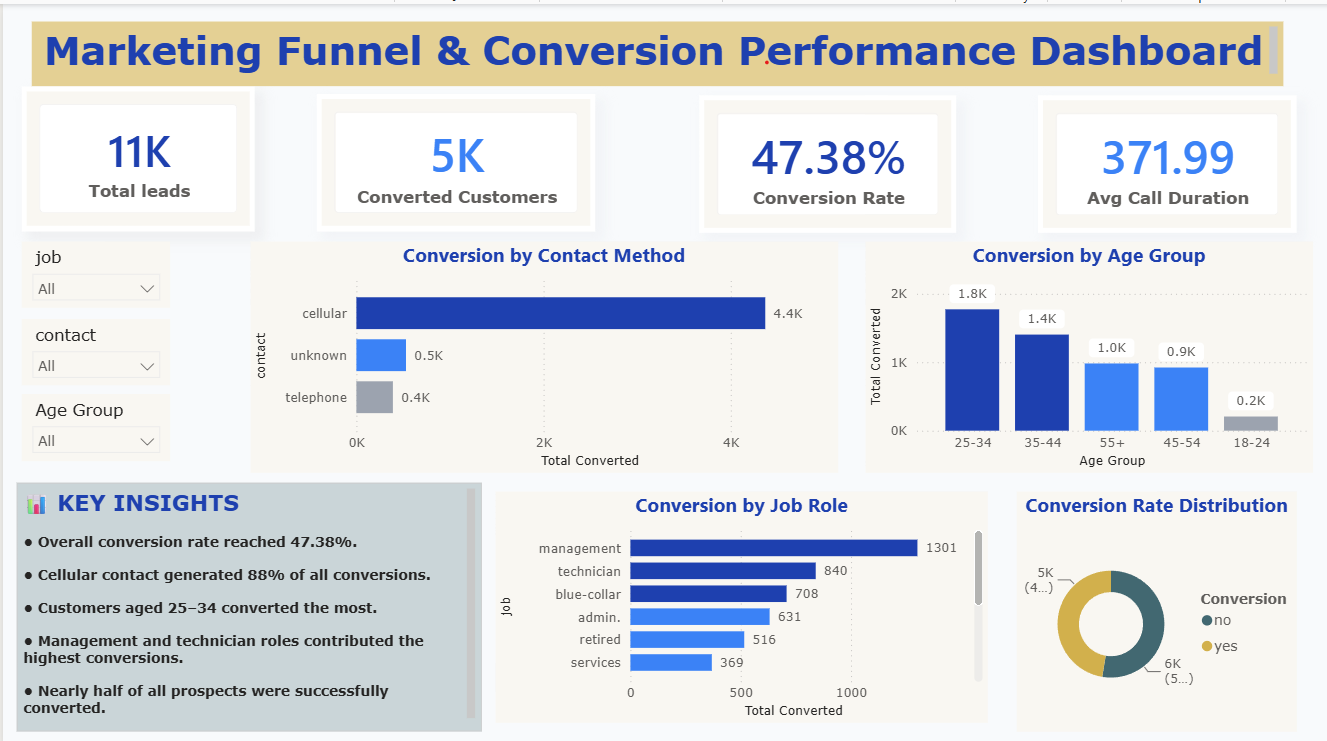

The dashboard page shown, as its layout file describes it:
{"tool":"powerbi","page":{"name":"Page 1","canvas":[1280,720],"ordinal":0},"visuals":[{"type":"cardVisual","title":"Total Leads","fields":{"Data":["bank.Total Prospects"]},"box":[17.8,79.6,225,140],"z":0},{"type":"textbox","box":[27.7,16.9,1207.6,62.7],"z":1000},{"type":"cardVisual","title":"Converted Customers","fields":{"Data":["bank.Total Conversions"]},"box":[302.8,86.9,269,132.7],"z":2000},{"type":"cardVisual","title":"Conversion Rate","fields":{"Data":["bank.Conversion Rate"]},"box":[672.4,87.8,248.4,133.1],"z":3000},{"type":"cardVisual","title":"Avg Call Duration","fields":{"Data":["bank.Avg Call Duration"]},"box":[999,87.8,249.7,133.1],"z":4000},{"type":"clusteredBarChart","title":"Conversion by Contact Method","fields":{"Category":["bank.contact"],"Y":["bank.Total Converted"]},"box":[238.9,229.2,567,223.2],"z":5000},{"type":"clusteredBarChart","title":"Conversion by Job Role","fields":{"Category":["bank.job"],"Y":["bank.Total Converted"]},"box":[475.3,470.5,475.3,223.2],"z":6000},{"type":"clusteredColumnChart","title":"Conversion by Age Group","fields":{"Y":["bank.Total Converted"],"Category":["bank.Age Group"]},"box":[832.4,229.2,431.9,223.2],"z":7000},{"type":"donutChart","title":"Conversion Rate Distribution","fields":{"Category":["bank.Conversion"],"Y":["bank.Prospects"]},"box":[978.4,470.5,270.2,231.6],"z":8000},{"type":"textbox","box":[13.3,462.1,448.8,240.1],"z":12000},{"type":"slicer","fields":{"Values":["bank.job"]},"box":[18.1,229.2,143.6,63.9],"z":14500},{"type":"slicer","fields":{"Values":["bank.contact"]},"box":[18.1,304,143.6,63.9],"z":15000},{"type":"slicer","fields":{"Values":["bank.Age Group"]},"box":[18.1,376.4,143.6,65.1],"z":15500}]}

Visuals, with their boxes in screenshot pixels (x1, y1, x2, y2), scaled from the page's 1280x720 canvas onto the 1327x741 screenshot:
"Total Leads" cardVisual: left=18, top=82, right=252, bottom=226
textbox: left=29, top=17, right=1281, bottom=82
"Converted Customers" cardVisual: left=314, top=89, right=593, bottom=226
"Conversion Rate" cardVisual: left=697, top=90, right=955, bottom=227
"Avg Call Duration" cardVisual: left=1036, top=90, right=1295, bottom=227
"Conversion by Contact Method" clusteredBarChart: left=248, top=236, right=835, bottom=466
"Conversion by Job Role" clusteredBarChart: left=493, top=484, right=986, bottom=714
"Conversion by Age Group" clusteredColumnChart: left=863, top=236, right=1311, bottom=466
"Conversion Rate Distribution" donutChart: left=1014, top=484, right=1294, bottom=723
textbox: left=14, top=476, right=479, bottom=723
slicer - bank.job: left=19, top=236, right=168, bottom=302
slicer - bank.contact: left=19, top=313, right=168, bottom=379
slicer - bank.Age Group: left=19, top=387, right=168, bottom=454
